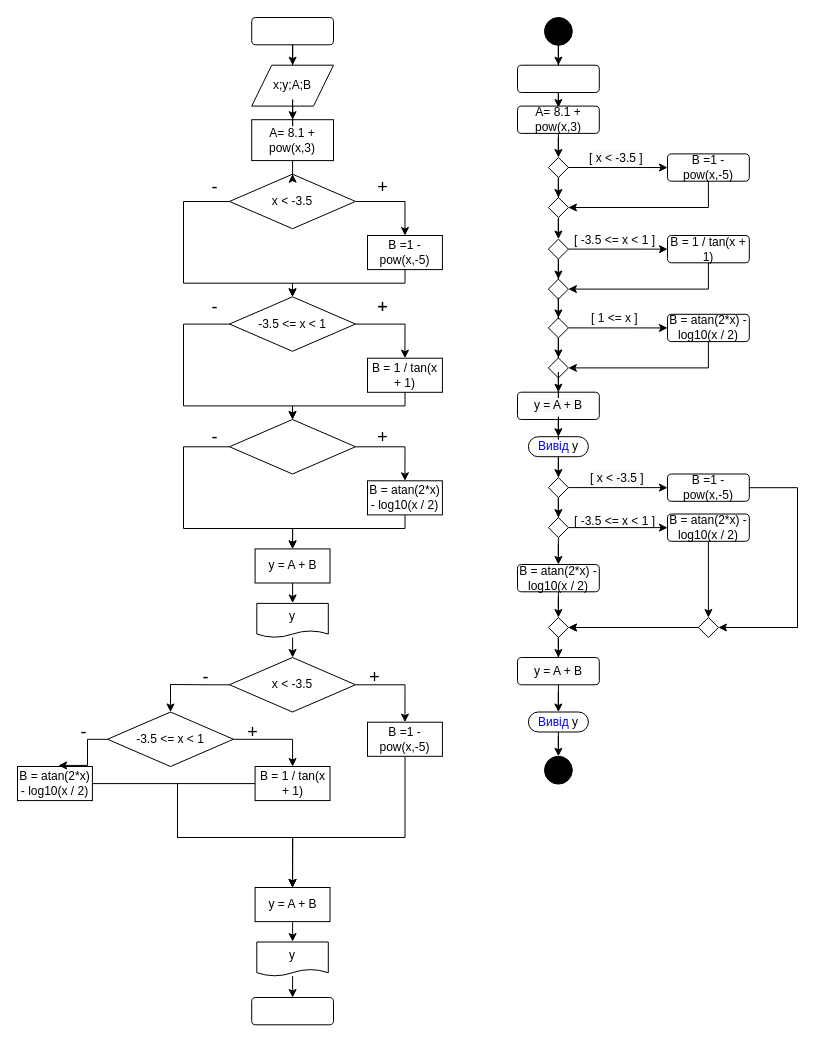
This 823x1043 diagram has some shape labels left out. Each missing label, with the centre of its shape:
"1 <= x" belongs at (x=292, y=446).
"Вхід" belongs at (x=557, y=78).
"Кінець" belongs at (x=292, y=1010).
"Початок" belongs at (x=292, y=30).
